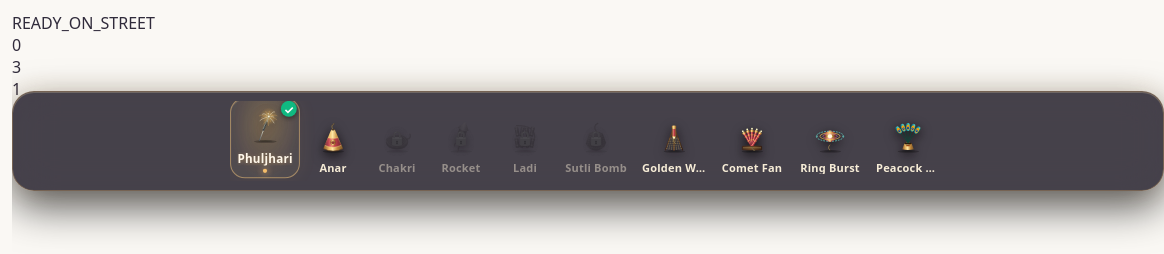
Test: G1 — Eliminate stale unlock, sticker, and introduction queries › allows clicking newly unlocked Anar in tray immediately after completing Phuljhari and choosing Light Again
Step 1. Click the option "Anar" → click(333, 145), box [304,110,362,179]
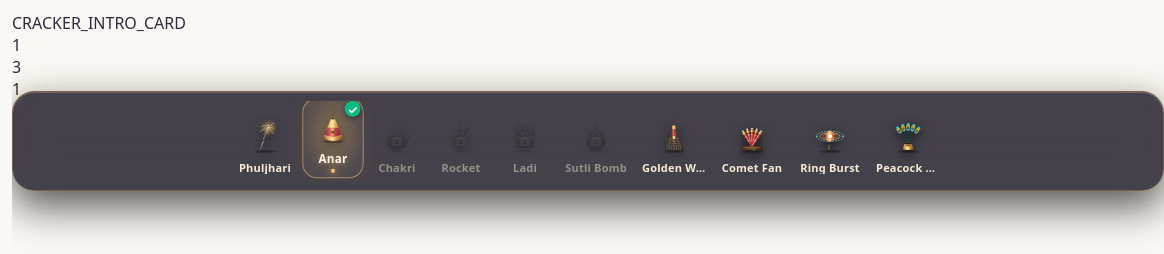
Check: the text "CRACKER_INTRO_CARD" is shown, box [12,12,186,34]
